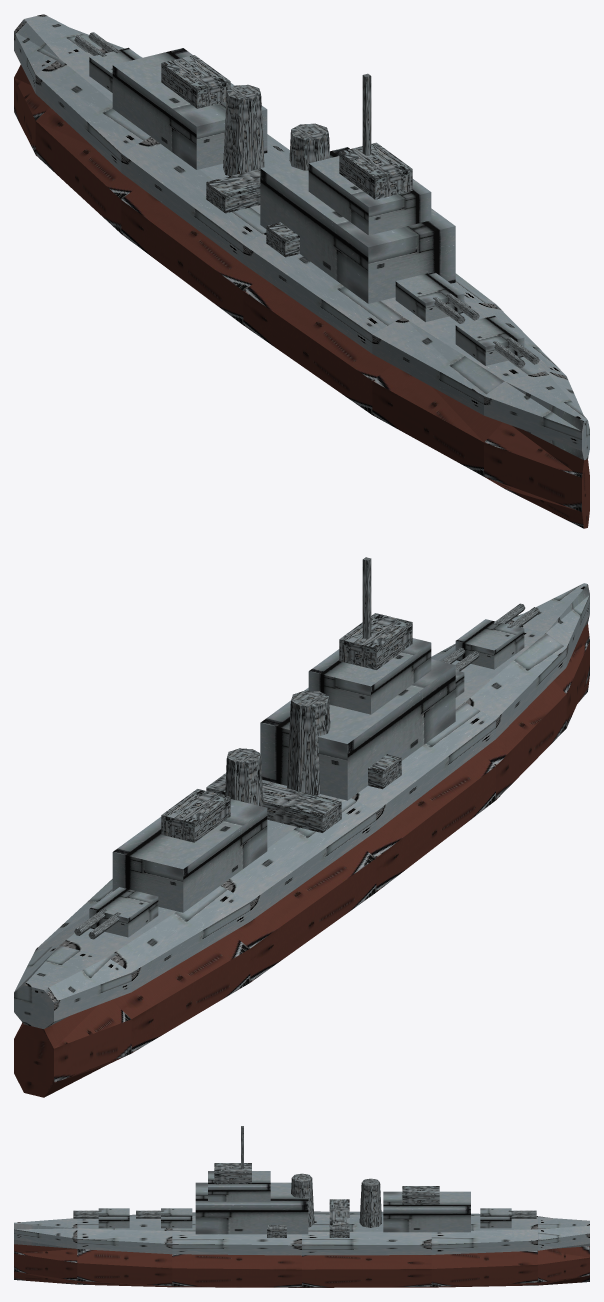
File: warship_cruiser.obj
3 views of the same model, one above another, from view 1: azimuth 30°, elevation 25°; view 2: azimuth 150°, elevation 25°; view 3: azimuth 270°, elevation 25° (orthographic). The views are drawn at different scales.
Parts seen in each view (by area): view 1: warship_cruiser; view 2: warship_cruiser; view 3: warship_cruiser.
Boxes of the visible parts, x1,y1,x2,y2 form: warship_cruiser: (14, 14, 589, 528); warship_cruiser: (14, 557, 589, 1097); warship_cruiser: (14, 1126, 589, 1287).
Size of the model in its own units: 12.8 by 26.9 by 92.
